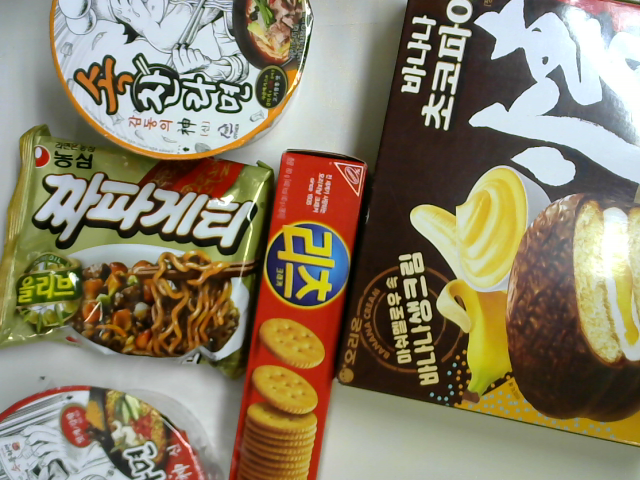Choco_Pie_Banana: (323, 1, 638, 458)
Hejangchan: (48, 1, 317, 163)
Hejangpul: (1, 379, 235, 480)
Olive_Chapaghetti: (1, 124, 297, 377)
Ritz_Cracker: (216, 146, 380, 480)
